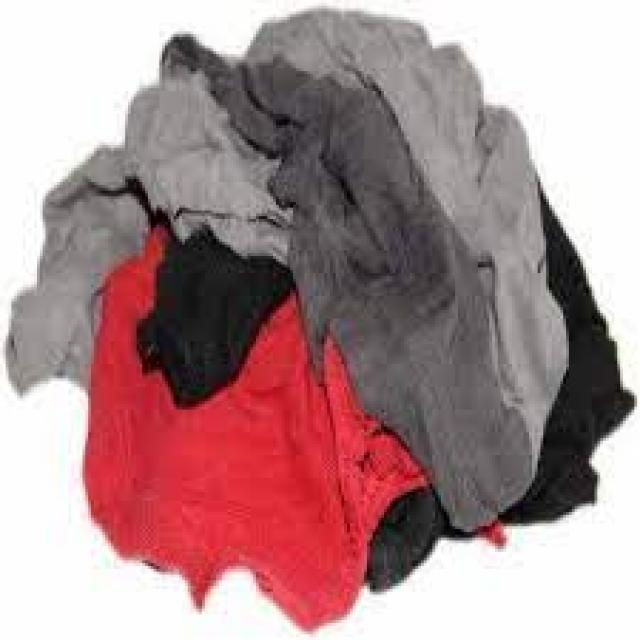Clothes -Biodegradable-: (3, 8, 636, 633)
